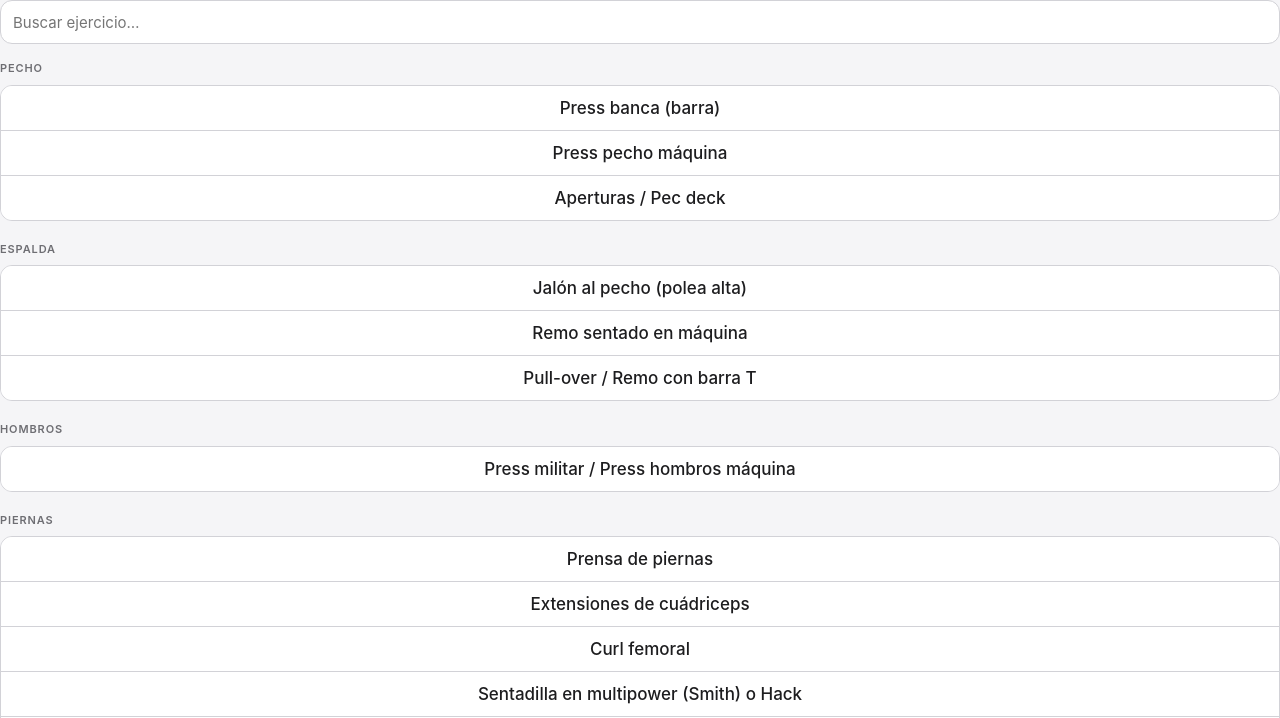
Test: <ExercisePicker /> › shows all exercises again when the search is cleared
Step 1. Type "press" into the search field → (640, 22), box x1=0 y1=0 x2=1279 y2=44
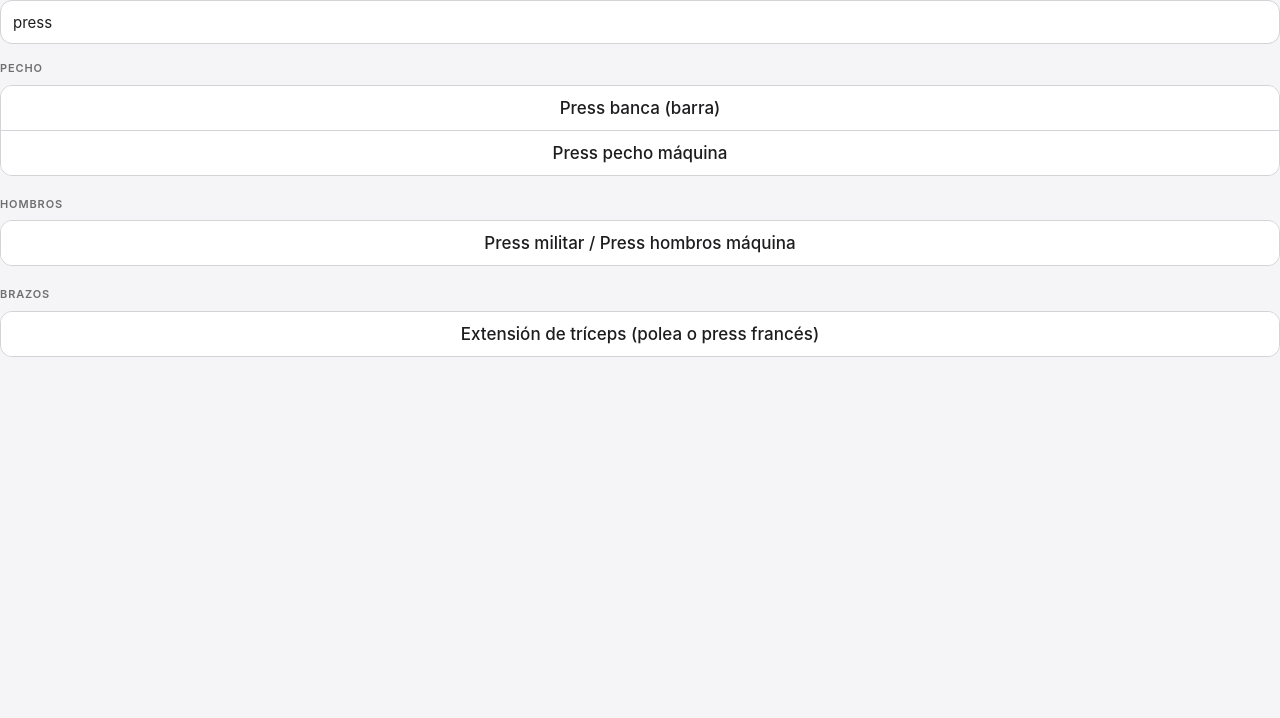
Step 2. Clear the search field → (640, 22), box x1=0 y1=0 x2=1279 y2=44
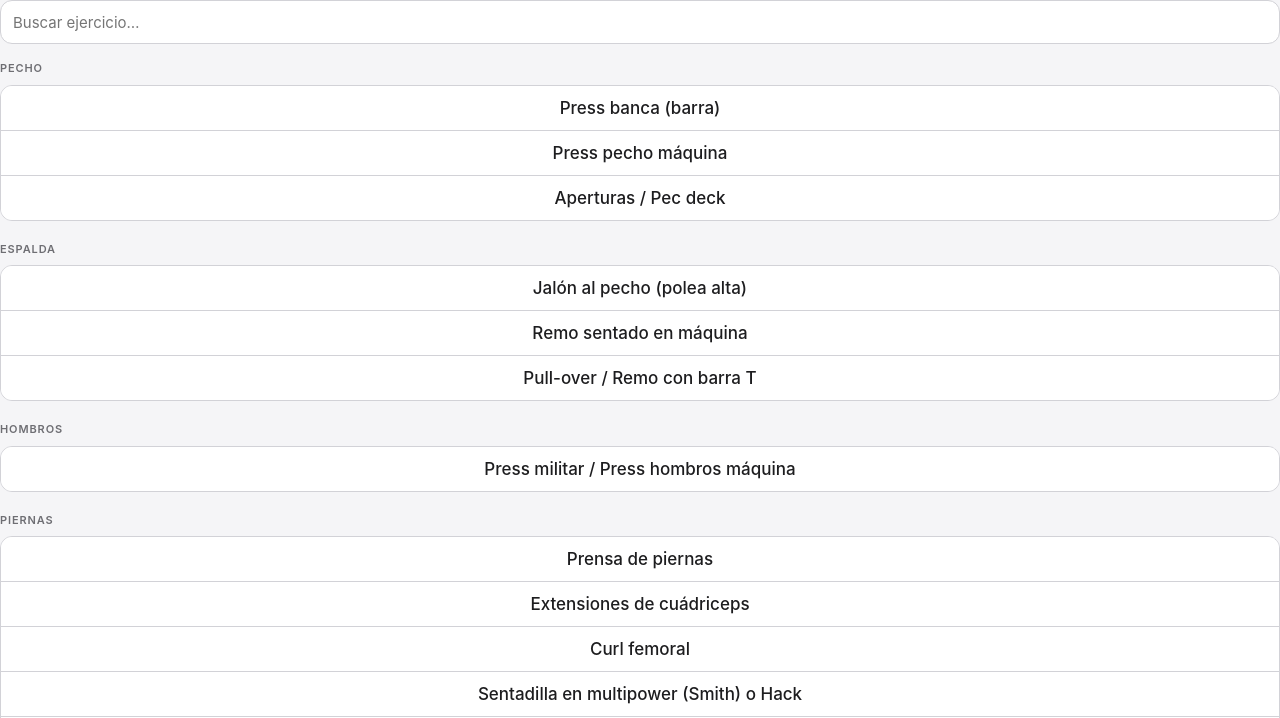
Now the number of headings is 8
